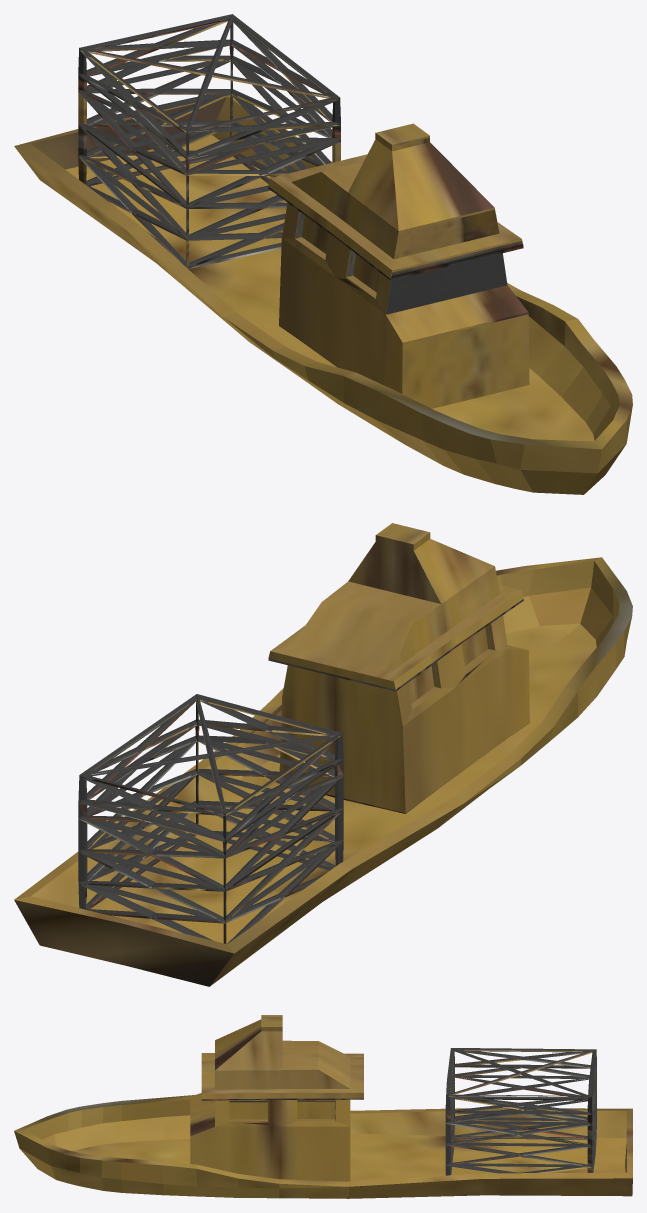
File: fishBoat.obj
3 views of the same model, one above another, from view 1: azimuth 30°, elevation 25°; view 2: azimuth 150°, elevation 25°; view 3: azimuth 270°, elevation 25° (orthographic). The views are drawn at different scales.
Parts seen in each view (by area): view 1: fishBoat; view 2: fishBoat; view 3: fishBoat.
Part boxes in pixels (bbox=[...]): fishBoat: bbox=[14, 14, 632, 494]; fishBoat: bbox=[14, 523, 632, 986]; fishBoat: bbox=[14, 1015, 632, 1198].
Bounding box in the file's own units: 2.67 × 2.36 × 8.87.
